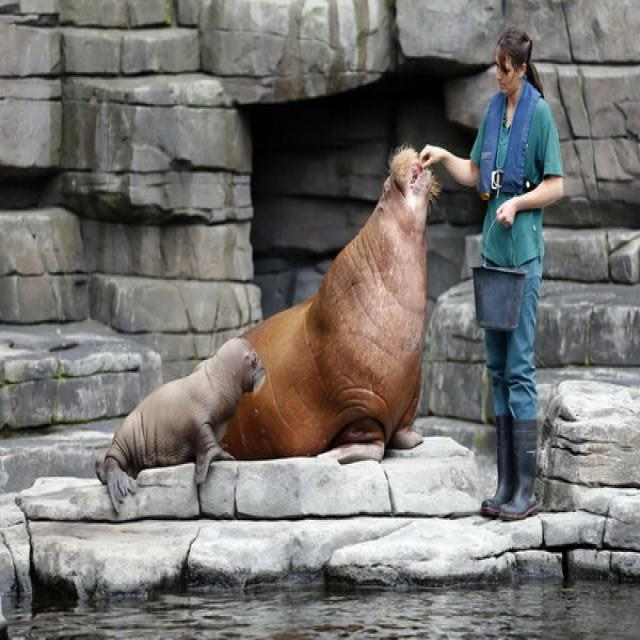walrus: (216, 141, 440, 463), (99, 334, 268, 506)
